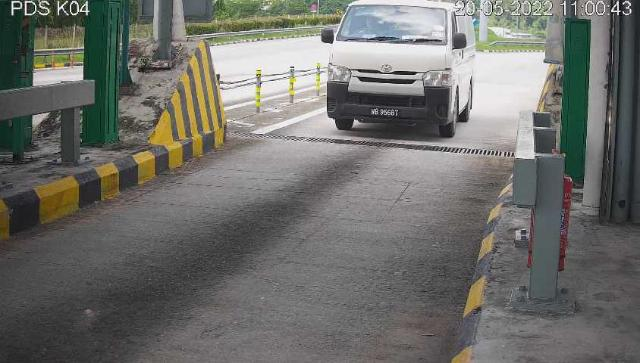License_Plate: (371, 108, 400, 119)
van: (329, 1, 477, 139)
